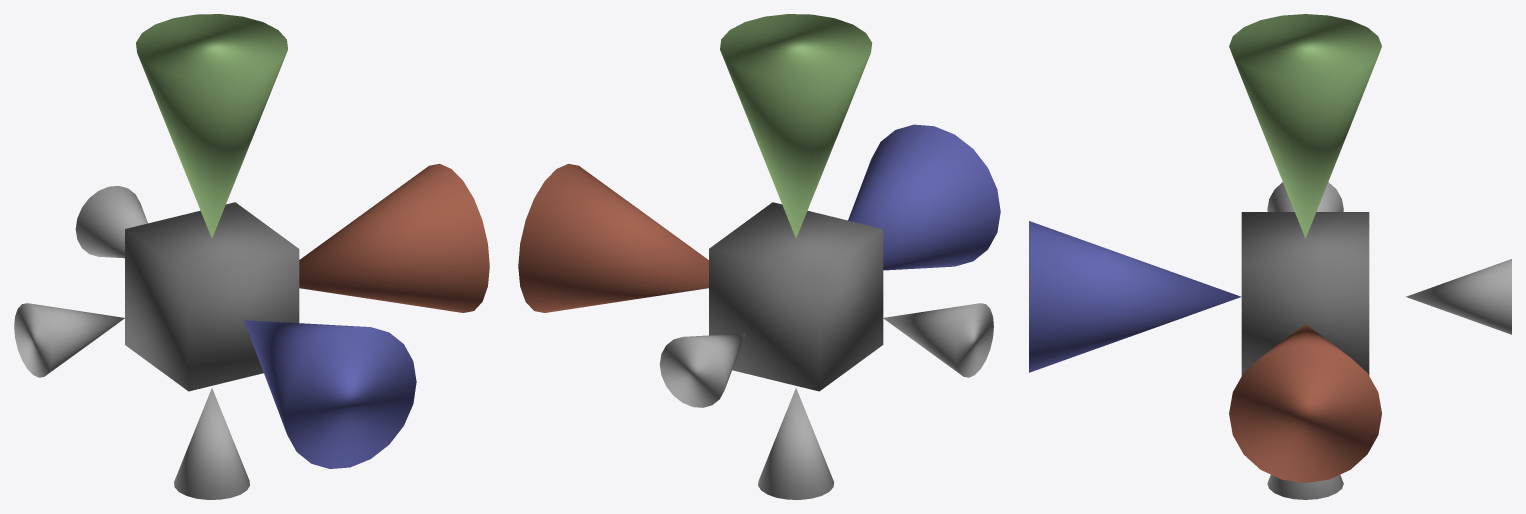
The model's file is viewport_camera_orientation_widget.glb.
3 renders of one model, left to right at view 1: azimuth 30°, elevation 25°; view 2: azimuth 150°, elevation 25°; view 3: azimuth 270°, elevation 25°, orthographic.
Visible parts, largest first — view 1: center, y_positive_cone, x_positive_cone, z_positive_cone, x_negative_cone, y_negative_cone, z_negative_cone; view 2: center, y_positive_cone, x_positive_cone, z_positive_cone, x_negative_cone, y_negative_cone, z_negative_cone; view 3: y_positive_cone, center, x_positive_cone, z_positive_cone, z_negative_cone, y_negative_cone, x_negative_cone.
Boxes of the visible parts, x1,y1,x2,y2 form: center: [125, 202, 299, 391]; y_positive_cone: [136, 14, 287, 238]; x_positive_cone: [299, 163, 489, 312]; z_positive_cone: [244, 320, 416, 468]; x_negative_cone: [14, 303, 124, 377]; y_negative_cone: [174, 388, 249, 499]; z_negative_cone: [75, 186, 147, 258]; center: [709, 202, 883, 391]; y_positive_cone: [720, 14, 872, 238]; x_positive_cone: [518, 163, 708, 312]; z_positive_cone: [848, 124, 1000, 270]; x_negative_cone: [883, 303, 993, 377]; y_negative_cone: [758, 388, 833, 499]; z_negative_cone: [659, 333, 745, 407]; y_positive_cone: [1229, 14, 1381, 238]; center: [1241, 212, 1369, 375]; x_positive_cone: [1229, 324, 1381, 482]; z_positive_cone: [1029, 221, 1241, 372]; z_negative_cone: [1406, 259, 1511, 334]; y_negative_cone: [1267, 475, 1343, 499]; x_negative_cone: [1267, 182, 1343, 211].
Size of the model in its own units: 11.35 by 11.35 by 11.35.
